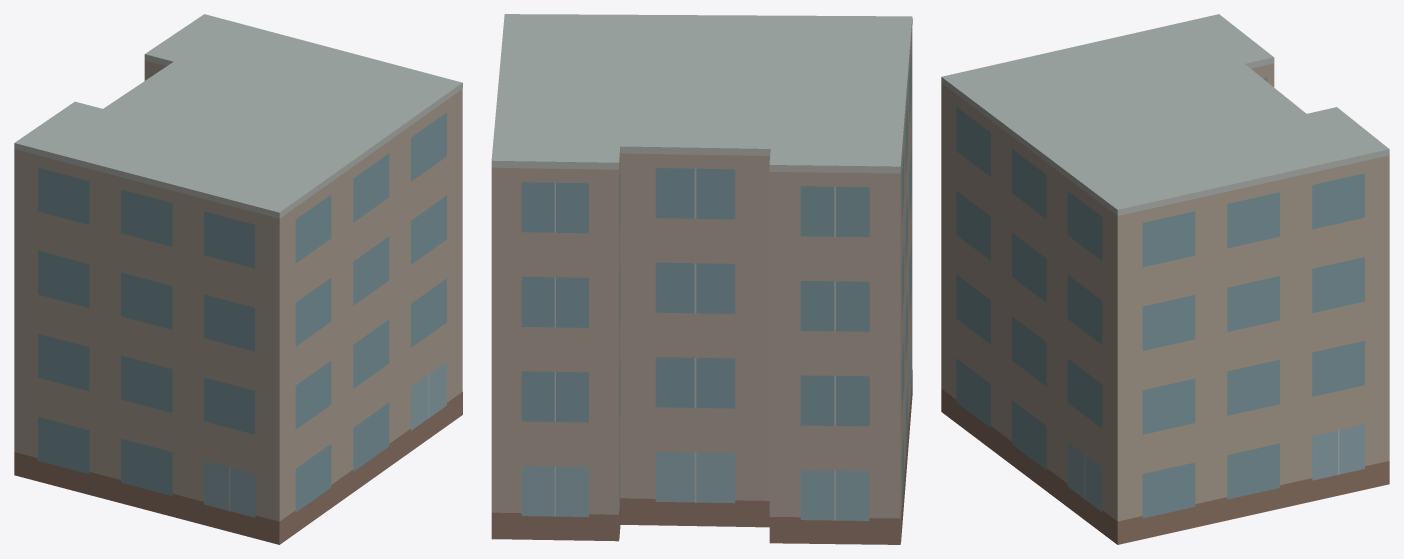
The model's file is survey-upis-32512393.glb.
3 views of the same model, side by side, from view 1: azimuth 30°, elevation 25°; view 2: azimuth 150°, elevation 25°; view 3: azimuth 270°, elevation 25° (orthographic). The views are drawn at different scales.
Visible parts, largest first — view 1: survey-upis-32512393.tmp; view 2: survey-upis-32512393.tmp; view 3: survey-upis-32512393.tmp.
Part boxes in pixels (left/top/right/bottom): survey-upis-32512393.tmp: left=14, top=14, right=462, bottom=544; survey-upis-32512393.tmp: left=491, top=14, right=912, bottom=544; survey-upis-32512393.tmp: left=941, top=14, right=1389, bottom=544.
Size of the model in its own units: 16.63 by 13.25 by 16.08.
